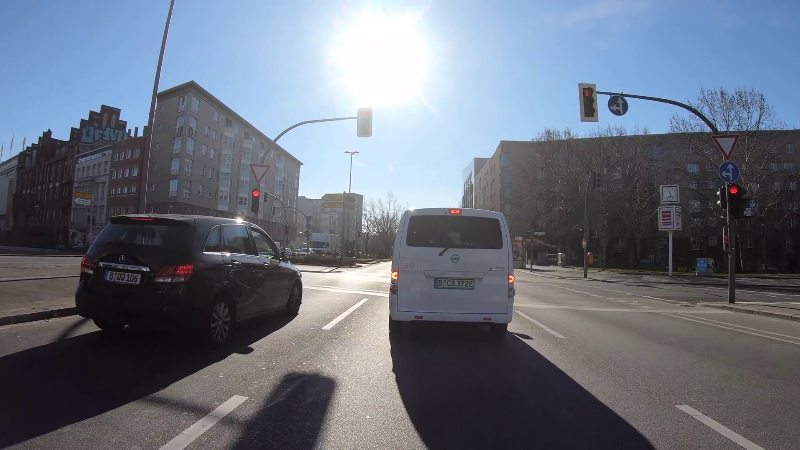Plate: (98, 269, 146, 288), (431, 277, 477, 292)
